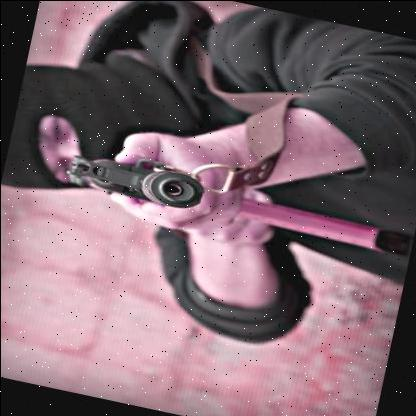rifle: (64, 135, 414, 271)
